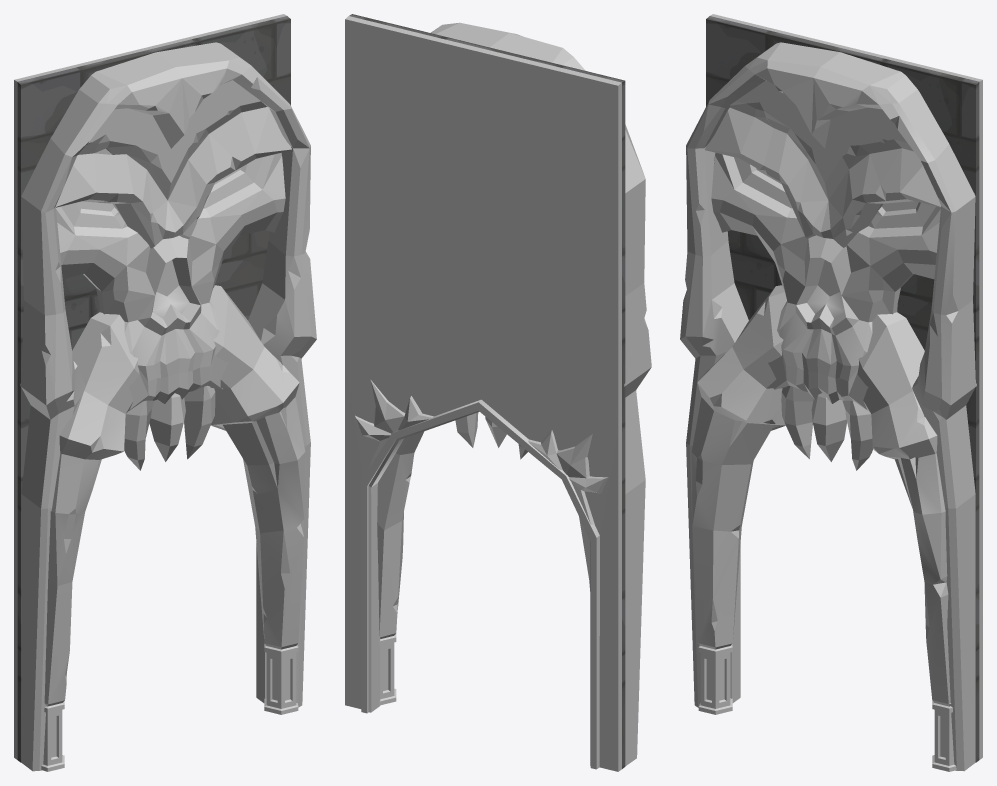
Rendered from SM_Bld_Wall_Door_Large_01.fbx.
3 renders of one model, left to right at view 1: azimuth 30°, elevation 25°; view 2: azimuth 150°, elevation 25°; view 3: azimuth 330°, elevation 25°, orthographic.
Visible parts, largest first — view 1: SM_Bld_Wall_Door_Large_01; view 2: SM_Bld_Wall_Door_Large_01; view 3: SM_Bld_Wall_Door_Large_01.
Part boxes in pixels (left/top/right/bottom): SM_Bld_Wall_Door_Large_01: left=14, top=14, right=316, bottom=771; SM_Bld_Wall_Door_Large_01: left=345, top=14, right=651, bottom=771; SM_Bld_Wall_Door_Large_01: left=680, top=14, right=982, bottom=771.
Bounding box in the file's own units: 502 × 1203 × 148.
